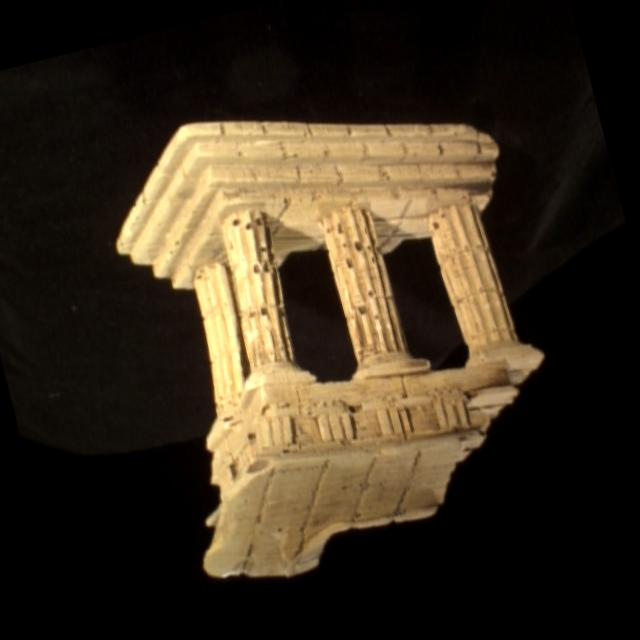Instance-Segmentation: (116, 123, 540, 577)
